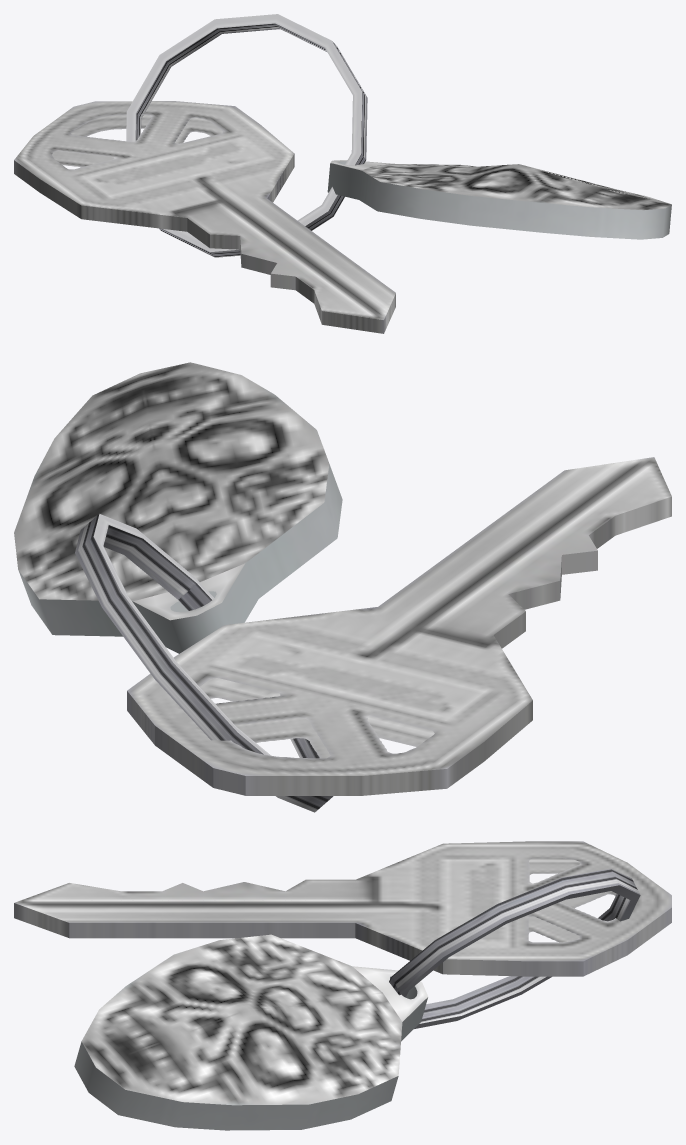
File: key_skull.fbx
3 renders of one model, top to bottom at view 1: azimuth 30°, elevation 25°; view 2: azimuth 150°, elevation 25°; view 3: azimuth 270°, elevation 25°, orthographic. The views are drawn at different scales.
Visible parts, largest first — view 1: key_house.001; view 2: key_house.001; view 3: key_house.001.
Part boxes in pixels (box(x1,y1,x2,y2)): key_house.001: box(14, 14, 671, 333); key_house.001: box(14, 362, 671, 812); key_house.001: box(14, 841, 671, 1130).
Size of the model in its own units: 17.2 by 6.64 by 19.53.
Materials: 1 (1 with a texture image).
